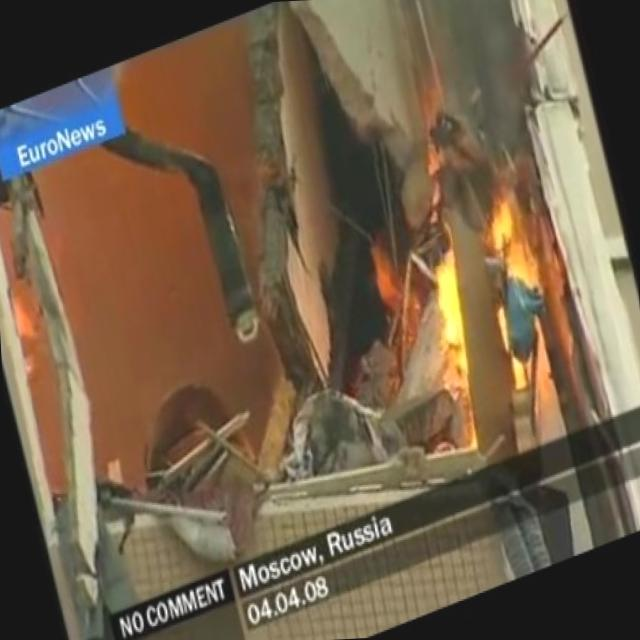fire: (400, 156, 572, 404)
